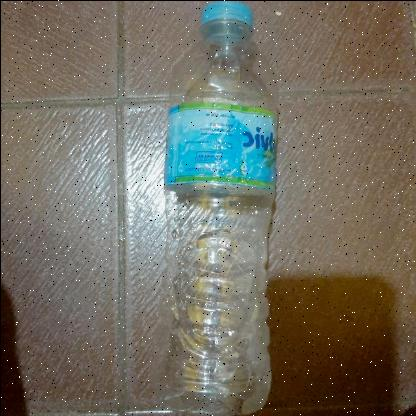Plastic Bottle: (155, 0, 279, 414)
